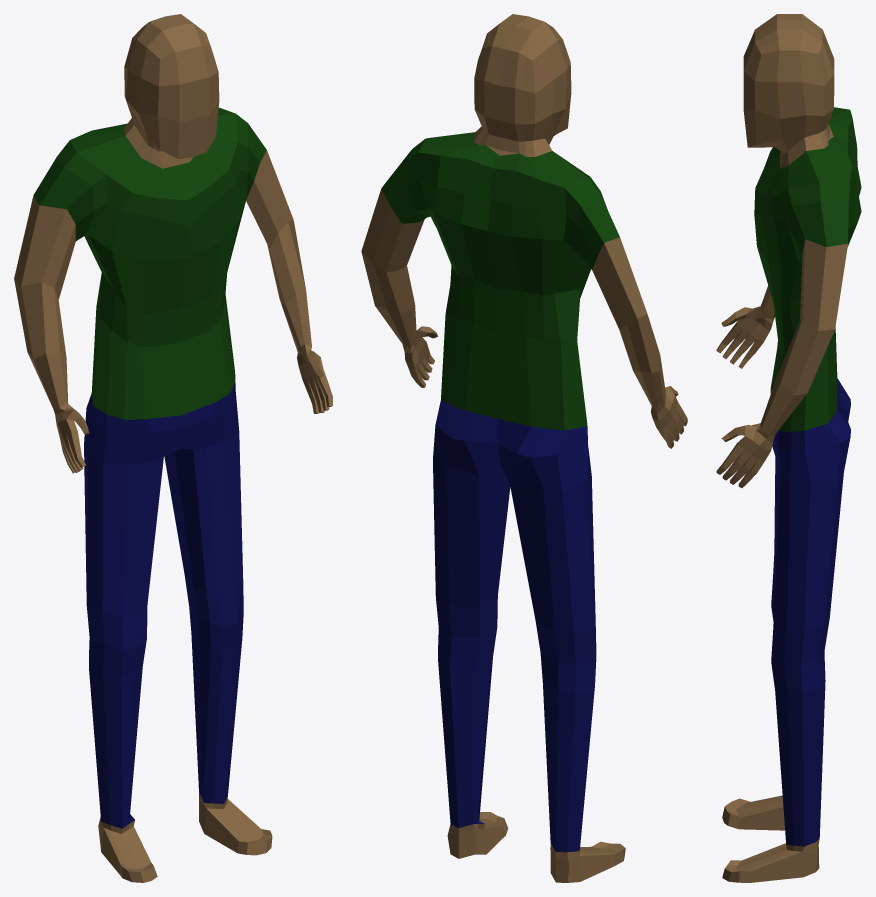
File: Human.obj
The picture shows the model from 3 angles, left to right: view 1: azimuth 30°, elevation 25°; view 2: azimuth 150°, elevation 25°; view 3: azimuth 270°, elevation 25°; orthographic projection. The views are drawn at different scales.
Parts seen in each view (by area): view 1: Cube_Cube.003; view 2: Cube_Cube.003; view 3: Cube_Cube.003.
Boxes of the visible parts, x1,y1,x2,y2 form: Cube_Cube.003: [14, 14, 332, 882]; Cube_Cube.003: [361, 14, 687, 882]; Cube_Cube.003: [716, 14, 861, 882].
Size of the model in its own units: 4.07 by 11.77 by 1.86.
